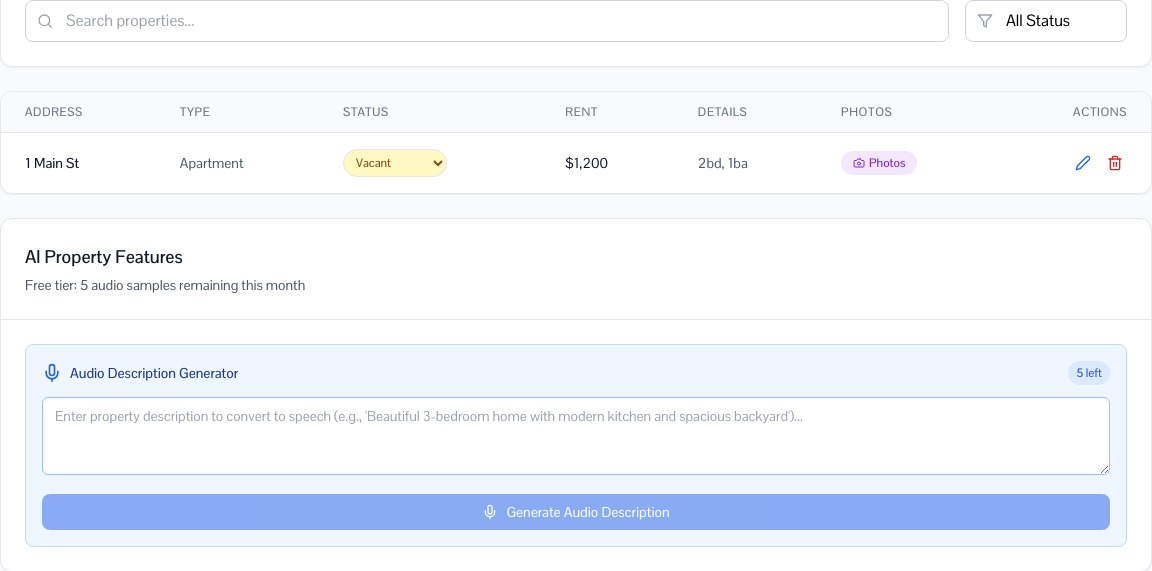
live dropdowns › shows the live property status on the tenant card
Select "Occupied" in the dropdown named "Status for 1 Main St": (395,163) left=343, top=149, right=447, bottom=177
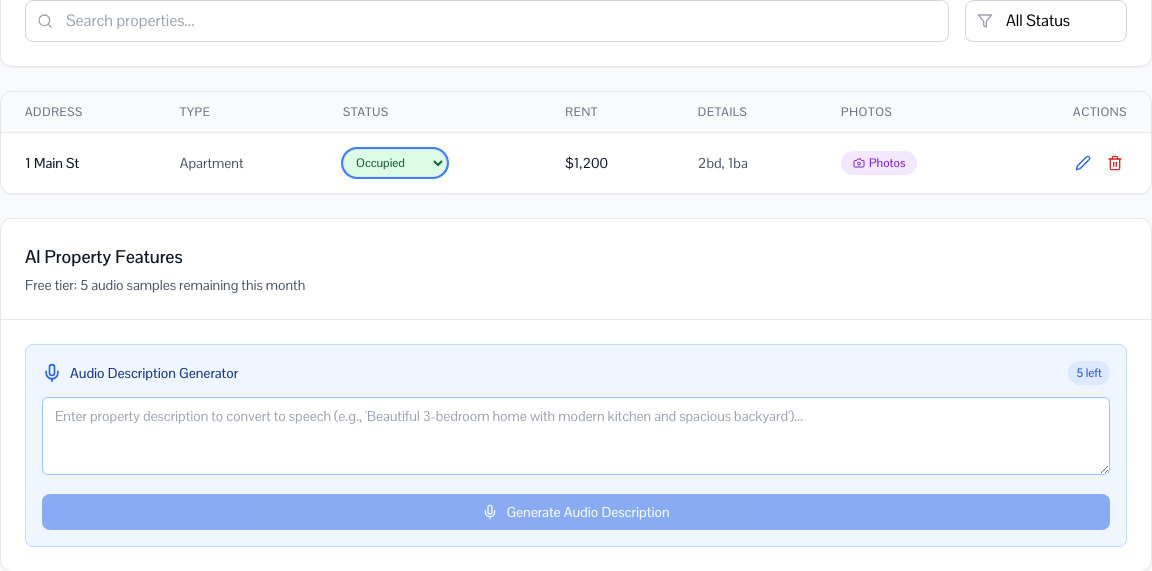
Select "Maintenance" in the dropdown named "Status for 1 Main St": (395,163) left=343, top=149, right=447, bottom=177
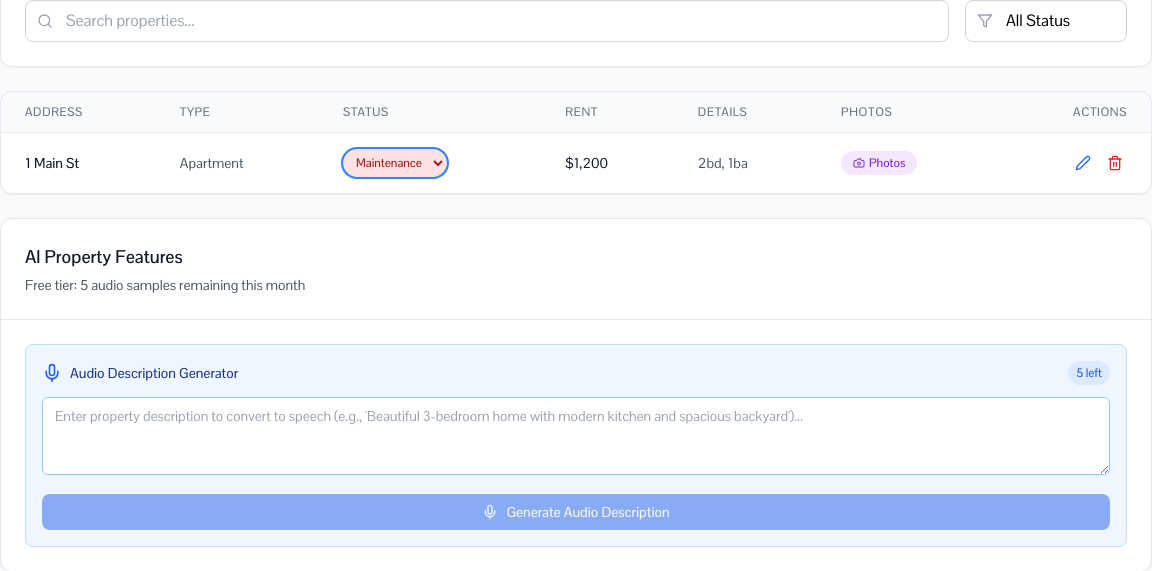
Select "Vacant" in the dropdown named "Status for 1 Main St": (395,163) left=343, top=149, right=447, bottom=177
(page scrolled)
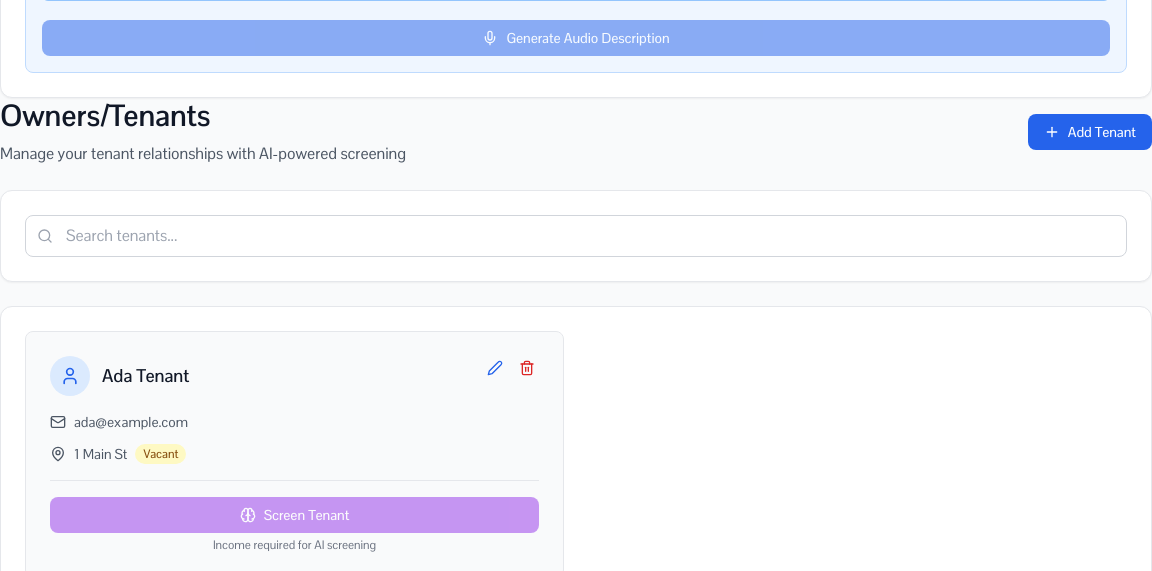
Now the text named "Property status Vacant" is shown, box left=135, top=444, right=186, bottom=464
